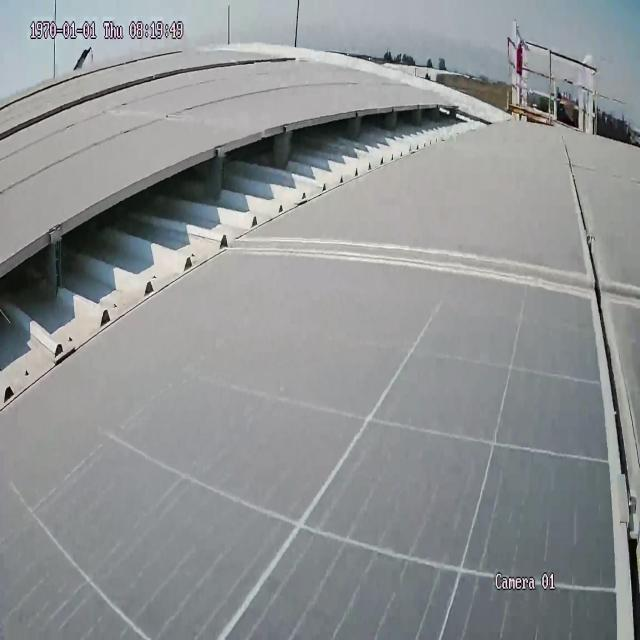interior panel: (247, 141, 640, 640)
outher panel: (0, 106, 507, 413)
